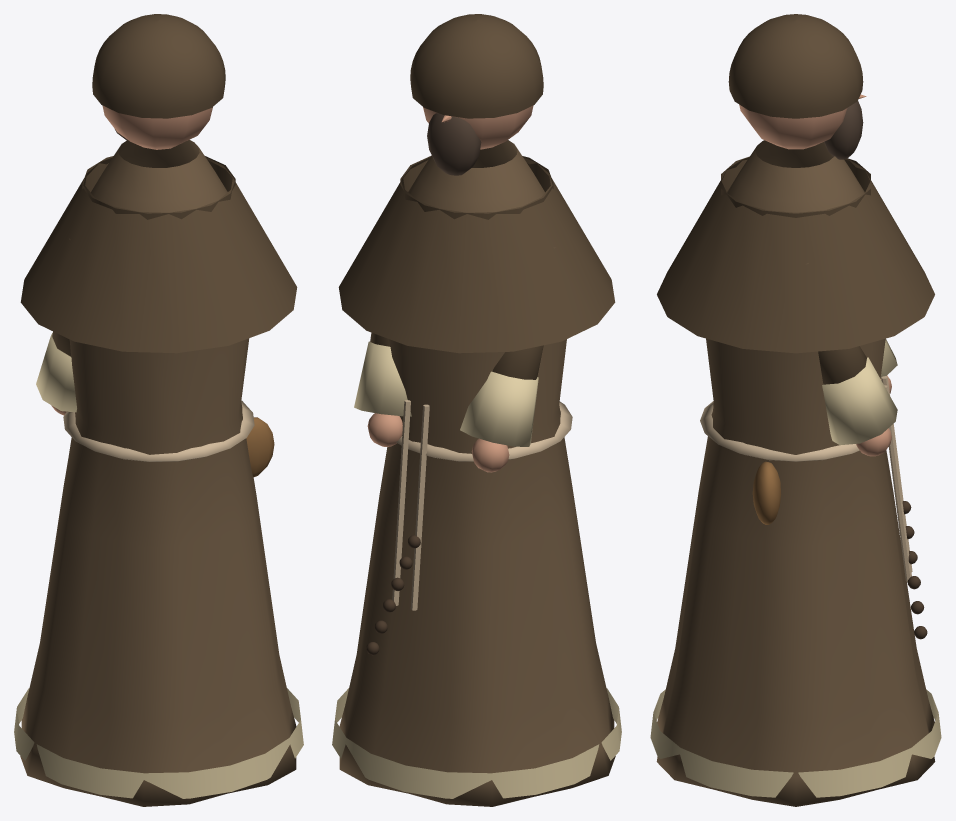
The model's file is monk.glb.
3 views of the same model, side by side, from view 1: azimuth 30°, elevation 25°; view 2: azimuth 150°, elevation 25°; view 3: azimuth 270°, elevation 25° (orthographic).
Parts seen in each view (by area): view 1: Robe, Cape, Hood, LiningBand, Head, Cincture, Cuff_-1, Collar, Pouch; view 2: Robe, Cape, Hood, LiningBand, Cuff_-1, Cuff_1, Beard, Cincture, Head, Strip0, Collar, Strip1 (+3 smaller); view 3: Robe, Cape, Hood, LiningBand, Cuff_1, Head, Cincture, Pouch, Sleeve_1, Collar, Beard, Strip1 (+1 smaller).
Part boxes in pixels (x1,y1,x2,y2): Robe: (20,140,296,806); Cape: (20,157,297,353); Hood: (92,14,225,118); LiningBand: (14,688,303,798); Head: (102,105,212,149); Cincture: (63,400,254,461); Cuff_-1: (36,332,76,412); Collar: (82,156,235,219); Pouch: (246,417,274,477); Robe: (339,140,615,806); Cape: (338,157,615,353); Hood: (410,14,543,118); LiningBand: (332,688,621,798); Cuff_-1: (460,371,538,446); Cuff_1: (354,341,411,416); Beard: (427,113,481,175); Cincture: (396,401,572,461); Head: (423,105,533,149); Strip0: (410,404,429,610); Collar: (400,156,553,219); Strip1: (392,400,410,605); Robe: (656,140,935,806); Cape: (657,157,934,353); Hood: (728,14,863,118); LiningBand: (650,689,941,797); Cuff_1: (822,357,897,445); Head: (739,104,847,149); Cincture: (700,401,859,461); Pouch: (752,461,781,524); Sleeve_1: (806,263,866,384); Collar: (721,156,870,217); Beard: (824,100,863,159); Strip1: (884,385,911,582).
Bounding box in the file's own units: 0.632 × 1.66 × 0.606.
